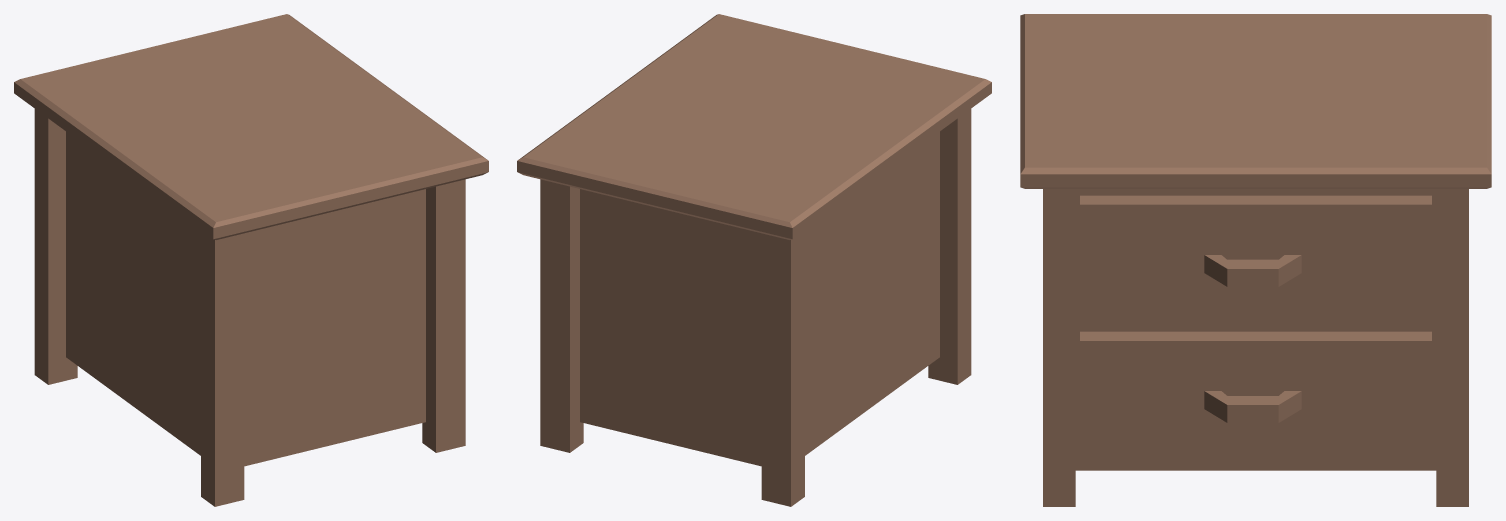
Rendered from Drawer.fbx.
The picture shows the model from 3 angles, left to right: view 1: azimuth 30°, elevation 25°; view 2: azimuth 150°, elevation 25°; view 3: azimuth 270°, elevation 25°; orthographic projection. The views are drawn at different scales.
Visible parts, largest first — view 1: Drawer; view 2: Drawer; view 3: Drawer.
Boxes of the visible parts, <box> form: Drawer: <box>14,14,488,506</box>; Drawer: <box>517,14,991,506</box>; Drawer: <box>1020,14,1491,506</box>.
Size of the model in its own units: 106 by 103 by 127.
